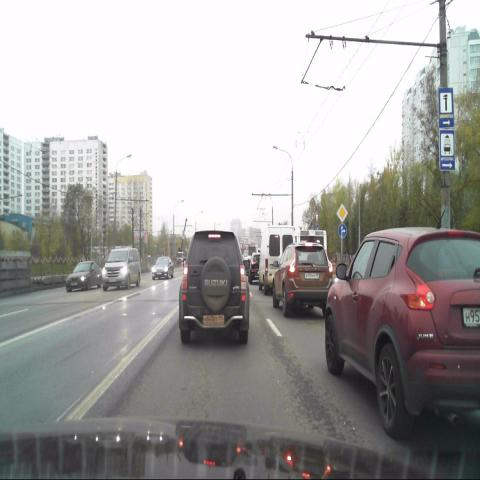7_4: (438, 86, 454, 127)
